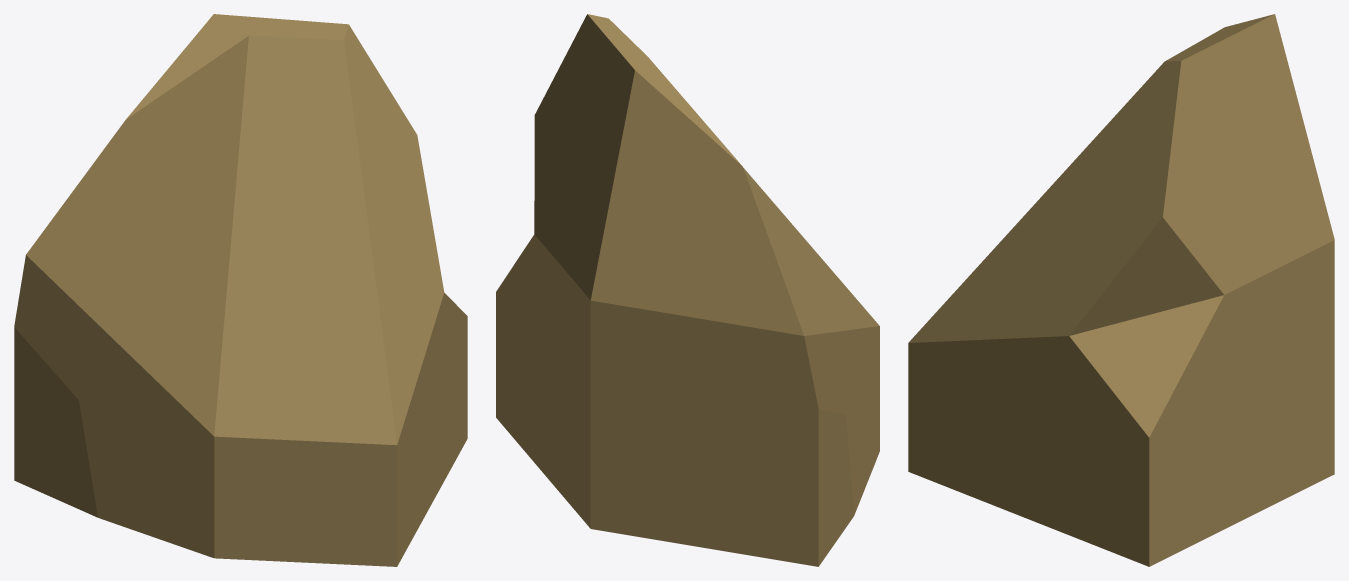
The model's file is Stone5.fbx.
The picture shows the model from 3 angles, left to right: view 1: azimuth 30°, elevation 25°; view 2: azimuth 150°, elevation 25°; view 3: azimuth 270°, elevation 25°; orthographic projection. The views are drawn at different scales.
Parts seen in each view (by area): view 1: Circle.010; view 2: Circle.010; view 3: Circle.010.
Part boxes in pixels (box(x1,y1,x2,y2)): Circle.010: box(14, 14, 467, 566); Circle.010: box(496, 14, 879, 566); Circle.010: box(908, 14, 1334, 566).
Bounding box in the file's own units: 127 × 136 × 116.
